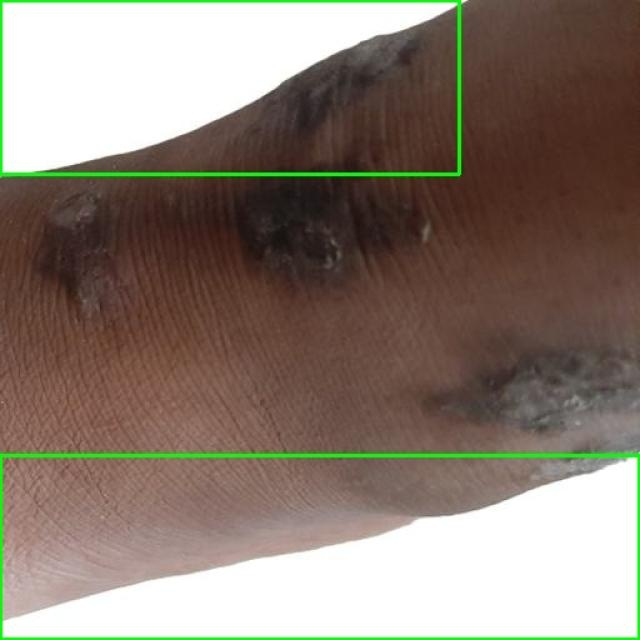Contact Dermatitis: (0, 455, 639, 639), (0, 0, 459, 174)
